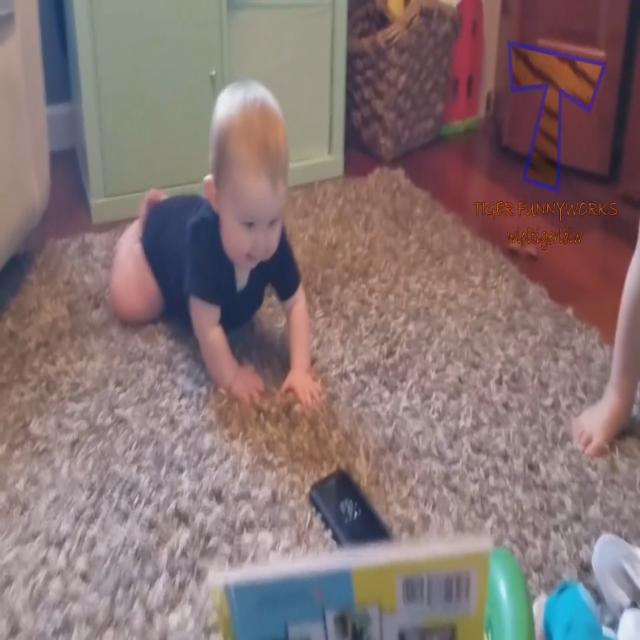safe: (121, 82, 304, 384)
